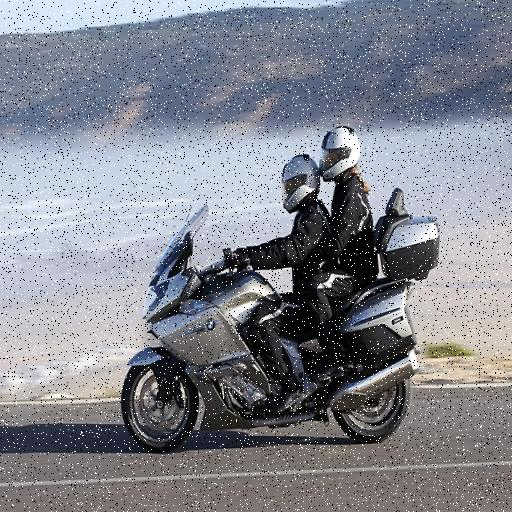Helmet: (315, 126, 368, 180), (278, 151, 322, 210)
Motor: (114, 244, 429, 446)
